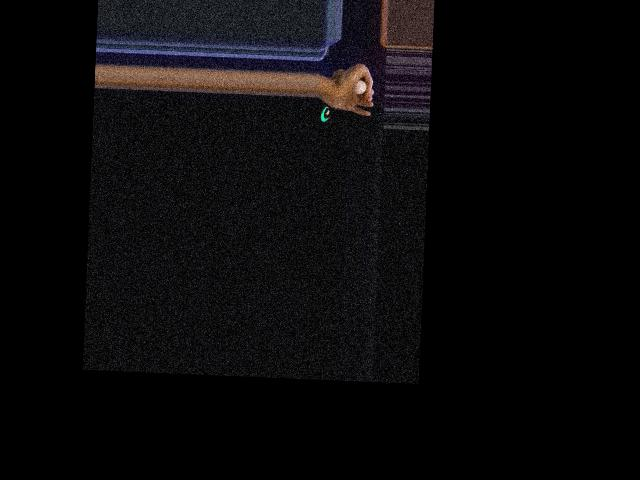egg: (355, 79, 366, 94)
